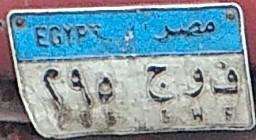2: (43, 66, 65, 109)
5: (95, 63, 124, 106)
9: (67, 62, 96, 109)
ج: (146, 58, 177, 105)
ف: (208, 59, 239, 106)
و: (181, 60, 208, 103)
